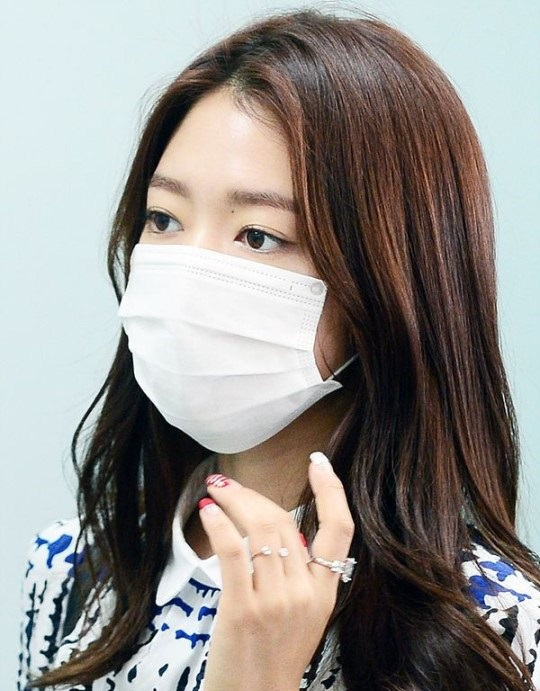face_mask: (121, 108, 325, 458)
